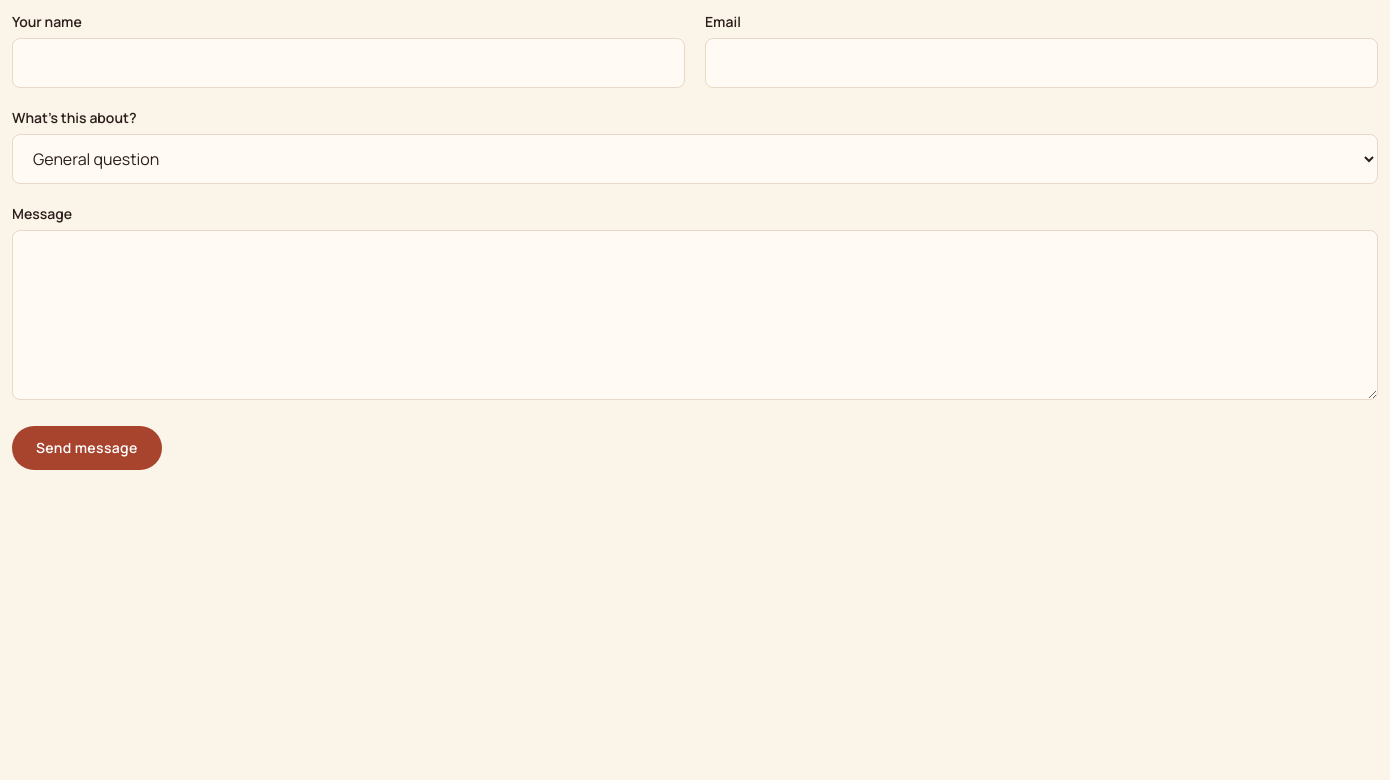
Test case: ContactForm › highlights field errors and keeps what was typed
Click the button "Send message" at [87, 448], box [12,426,162,470]
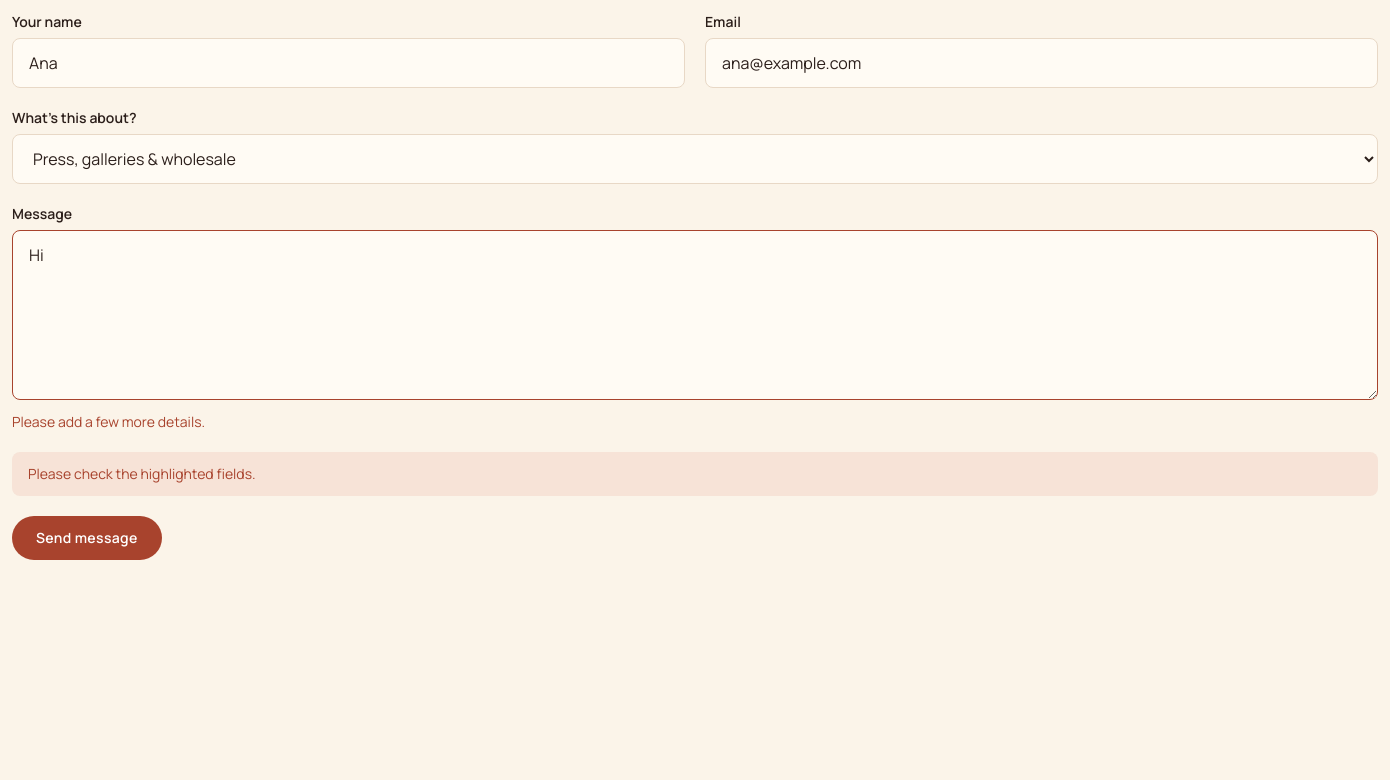
Expected: the message reads "Please check the highlighted fields.", [28,464,256,483]
Expected: the dropdown labelled "What's this about?" shows "Press, galleries & wholesale", [12,134,1378,184]
Expected: the text box labelled "Message" holds "Hi", [12,230,1378,400]
